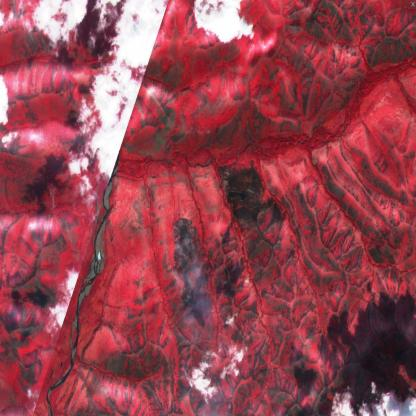fire: (164, 211, 216, 320)
